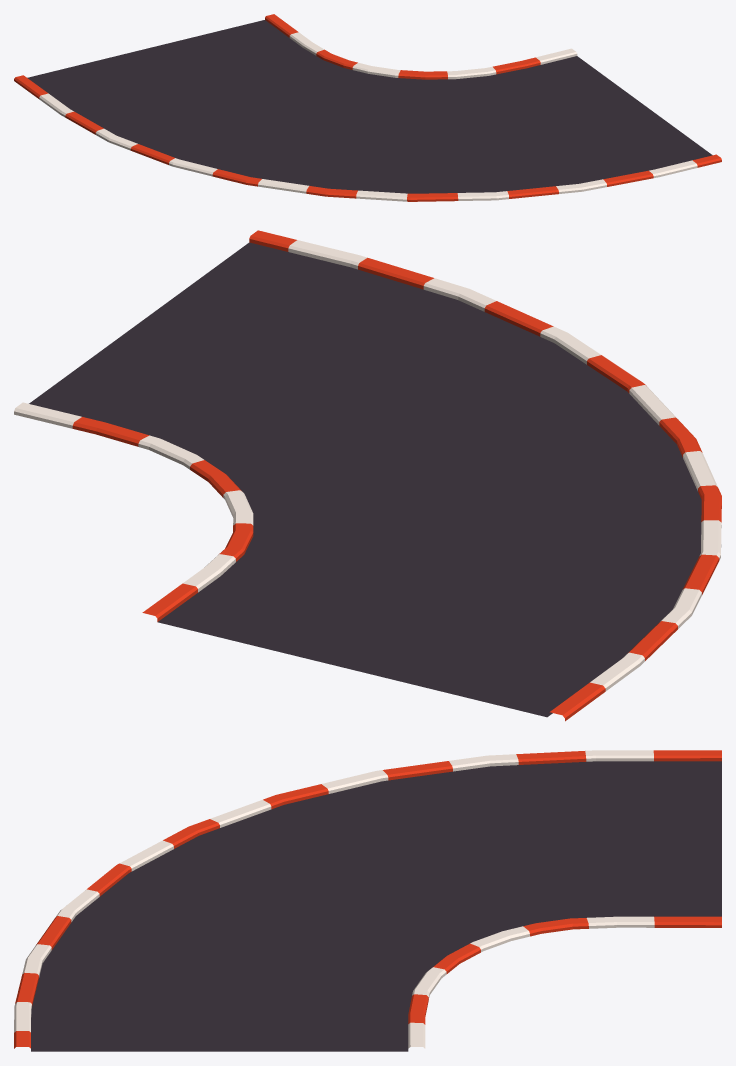
3 views of the same model, one above another, from view 1: azimuth 30°, elevation 25°; view 2: azimuth 150°, elevation 25°; view 3: azimuth 270°, elevation 25° (orthographic). The views are drawn at different scales.
Parts seen in each view (by area): view 1: Road, LeftCurb0, LeftCurb1, RightCurb0, RightCurb1; view 2: Road, LeftCurb0, LeftCurb1, RightCurb0, RightCurb1; view 3: Road, LeftCurb0, LeftCurb1, RightCurb0, RightCurb1.
Part boxes in pixels (x1,y1,x2,y2): Road: (27,20,712,193); LeftCurb0: (14,75,721,201); LeftCurb1: (39,93,697,201); RightCurb0: (265,14,540,79); RightCurb1: (289,32,577,79); Road: (29,242,701,717); LeftCurb0: (249,230,721,721); LeftCurb1: (288,240,721,691); RightCurb0: (72,417,253,621); RightCurb1: (14,402,253,592); Road: (31,761,721,1051); LeftCurb0: (14,750,721,1048); LeftCurb1: (14,750,653,1032); RightCurb0: (408,916,721,1024); RightCurb1: (408,916,654,1048).
Bounding box in the file's own units: 18.66 × 0.14 × 18.76.
